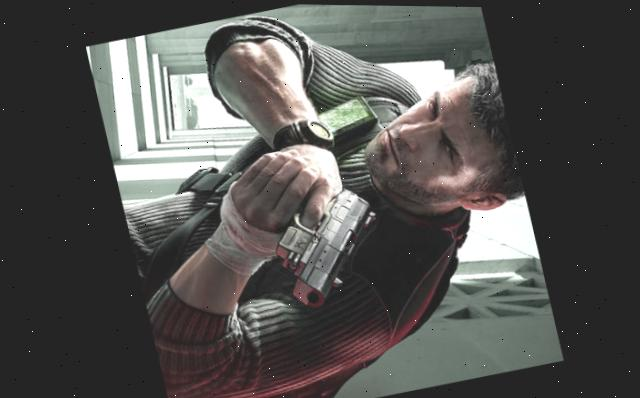pistol: (260, 179, 395, 314)
